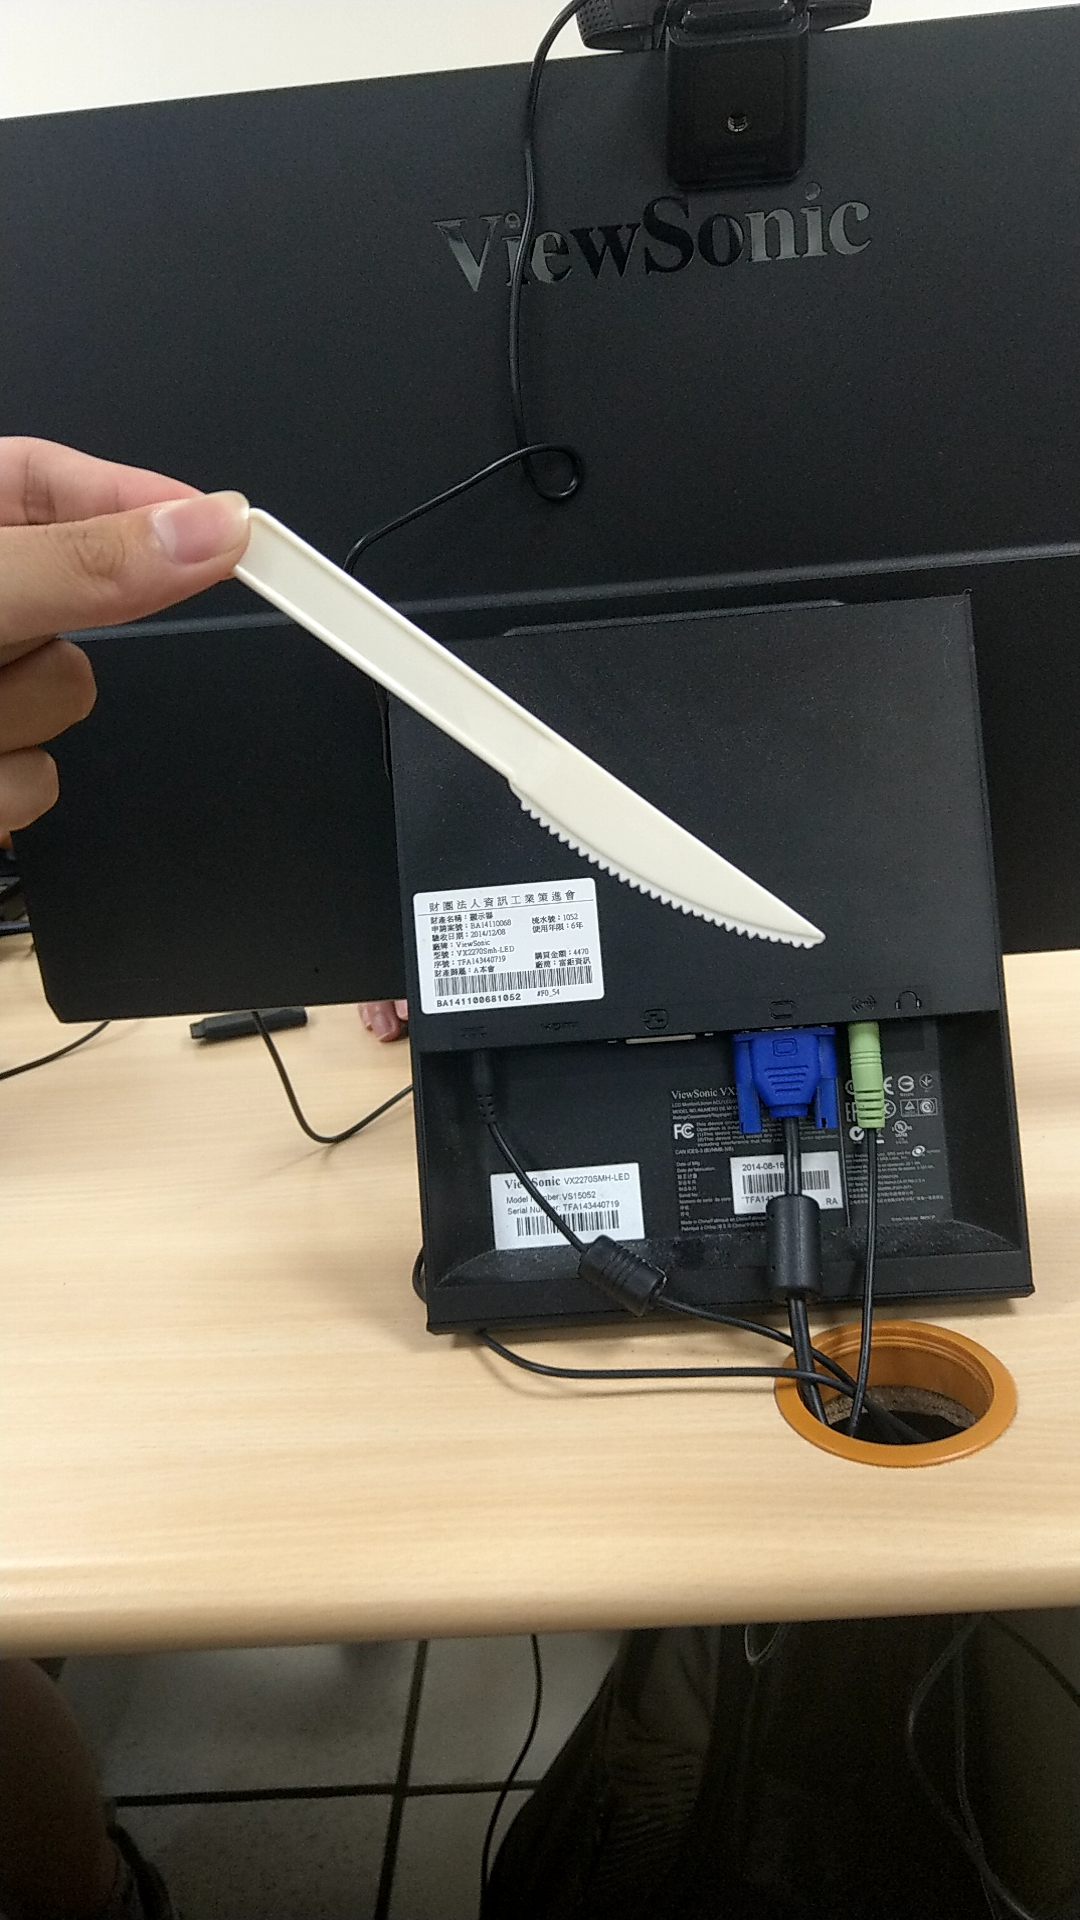knife: (233, 475, 847, 961)
